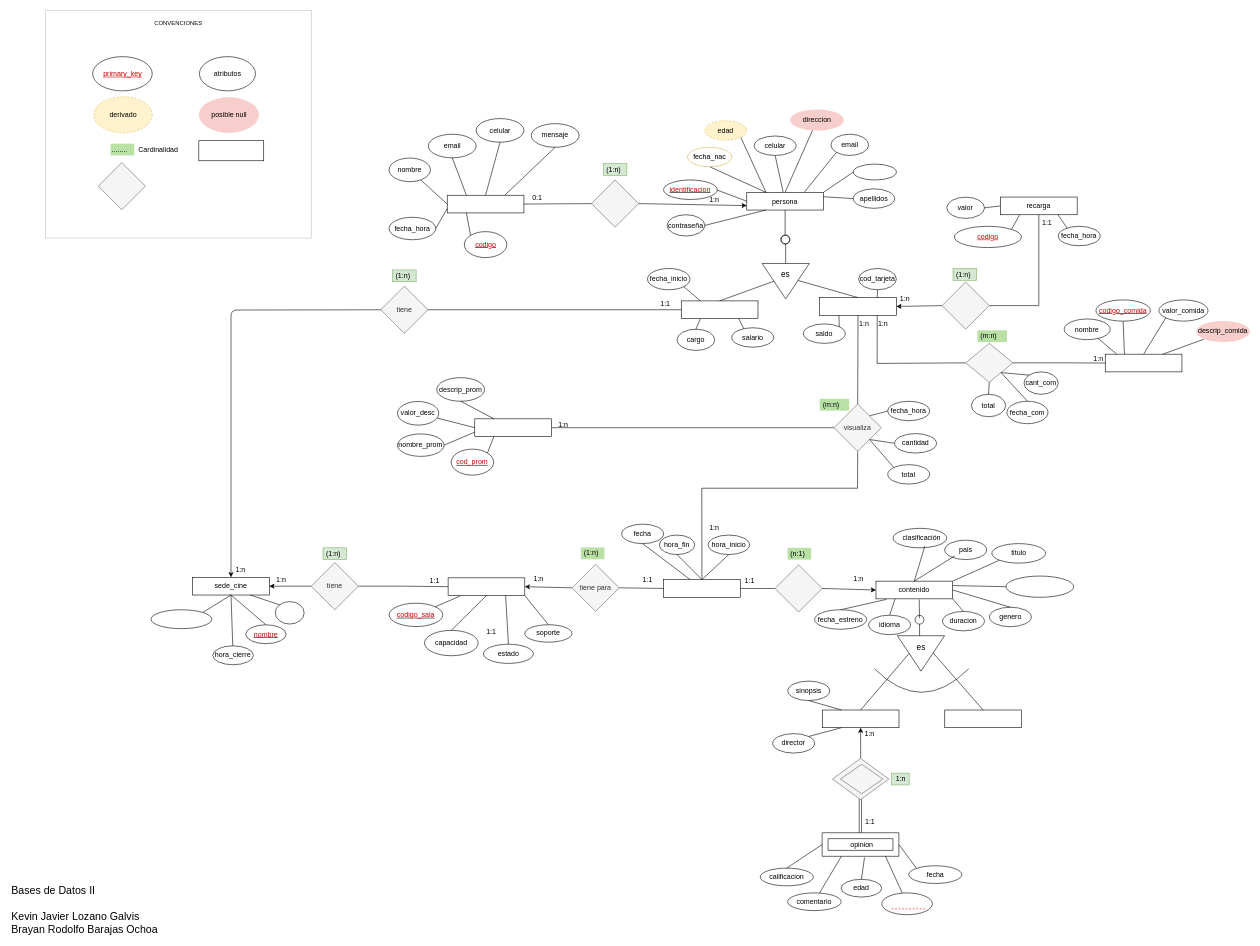
Image size: 1260x946. Some labels were removed from this diagram. Each missing label, with the centre of its shape:
"cliente" goes at (x=857, y=306).
"codigo_contenido" goes at (x=1039, y=586).
"comidas" goes at (x=1143, y=363).
"compra" goes at (x=989, y=362).
"dejado" goes at (x=615, y=203).
"directo" goes at (x=982, y=718).
"el" goes at (x=798, y=588).
"empleado" goes at (x=719, y=309).
"entidades" goes at (x=231, y=150).
"hora_apertura" goes at (x=181, y=619).
"id_opinion" goes at (x=906, y=903).
"mensajes" goes at (x=485, y=204).
"nombres" goes at (x=874, y=171).
"pelicula" goes at (x=860, y=718).
"promociones" goes at (x=512, y=427).
"proyecta" goes at (x=701, y=588).
"realiza" goes at (x=965, y=305).
"recibe" goes at (x=861, y=779).
"relacion" goes at (x=121, y=186).
"sala" goes at (x=486, y=586).
"zona" goes at (x=289, y=612).
